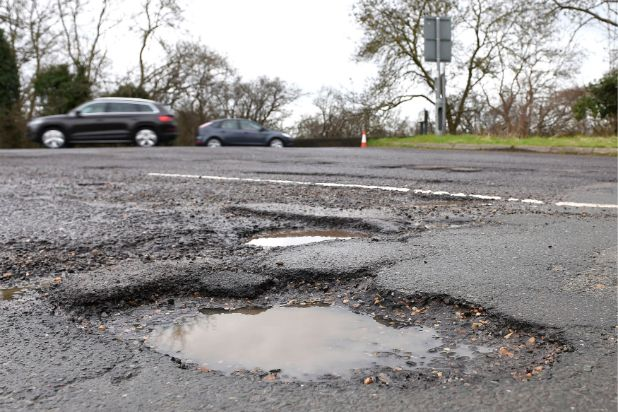pothole: (50, 260, 578, 387), (220, 200, 387, 251)
